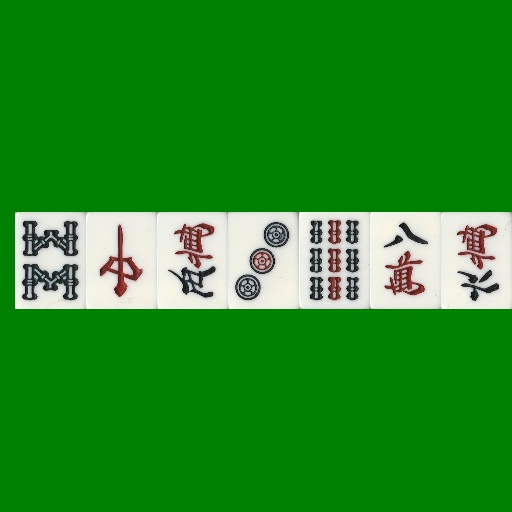3p: (228, 212, 299, 309)
5m: (157, 212, 228, 309)
6m: (441, 212, 512, 309)
8m: (370, 212, 441, 309)
8s: (15, 212, 86, 309)
9s: (299, 212, 370, 309)
tyun: (86, 212, 157, 309)
